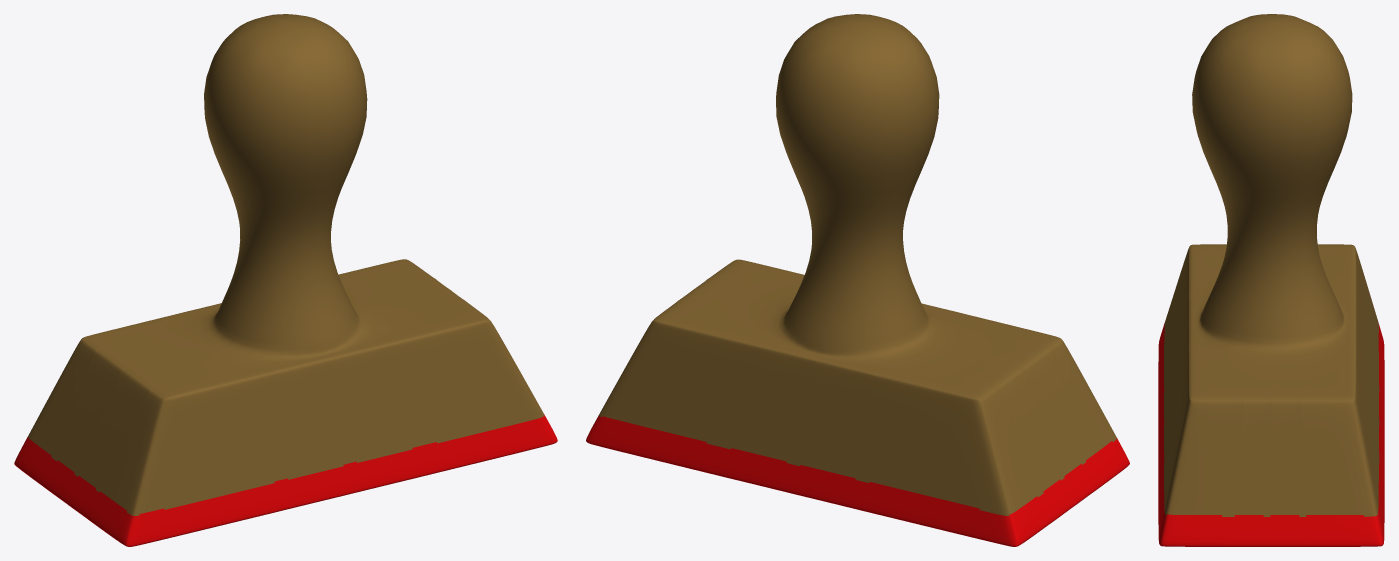
The model's file is Stamp.glb.
3 views of the same model, side by side, from view 1: azimuth 30°, elevation 25°; view 2: azimuth 150°, elevation 25°; view 3: azimuth 270°, elevation 25° (orthographic). The views are drawn at different scales.
Visible parts, largest first — view 1: Stamp; view 2: Stamp; view 3: Stamp.
Part boxes in pixels (<box>): Stamp: <box>14,14,557,546</box>; Stamp: <box>586,14,1129,546</box>; Stamp: <box>1158,14,1384,546</box>.
Bounding box in the file's own units: 1.05 × 0.9999 × 0.4848.
